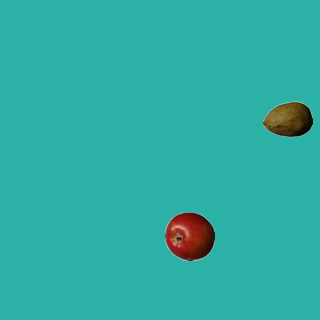Apple Braeburn: (164, 211, 214, 261)
Papaya: (262, 94, 312, 144)
